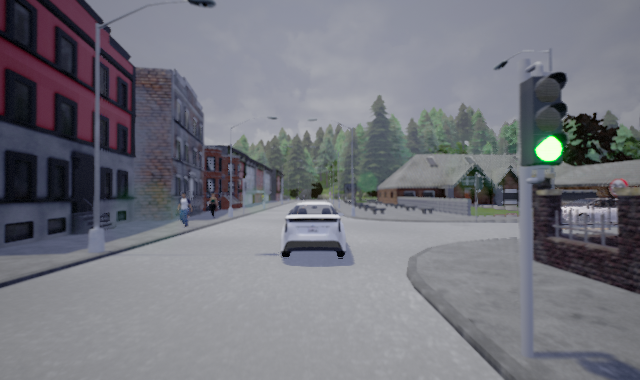pedestrian: (174, 191, 193, 227), (207, 192, 219, 219)
vehicle: (280, 203, 346, 259), (548, 197, 639, 227)
